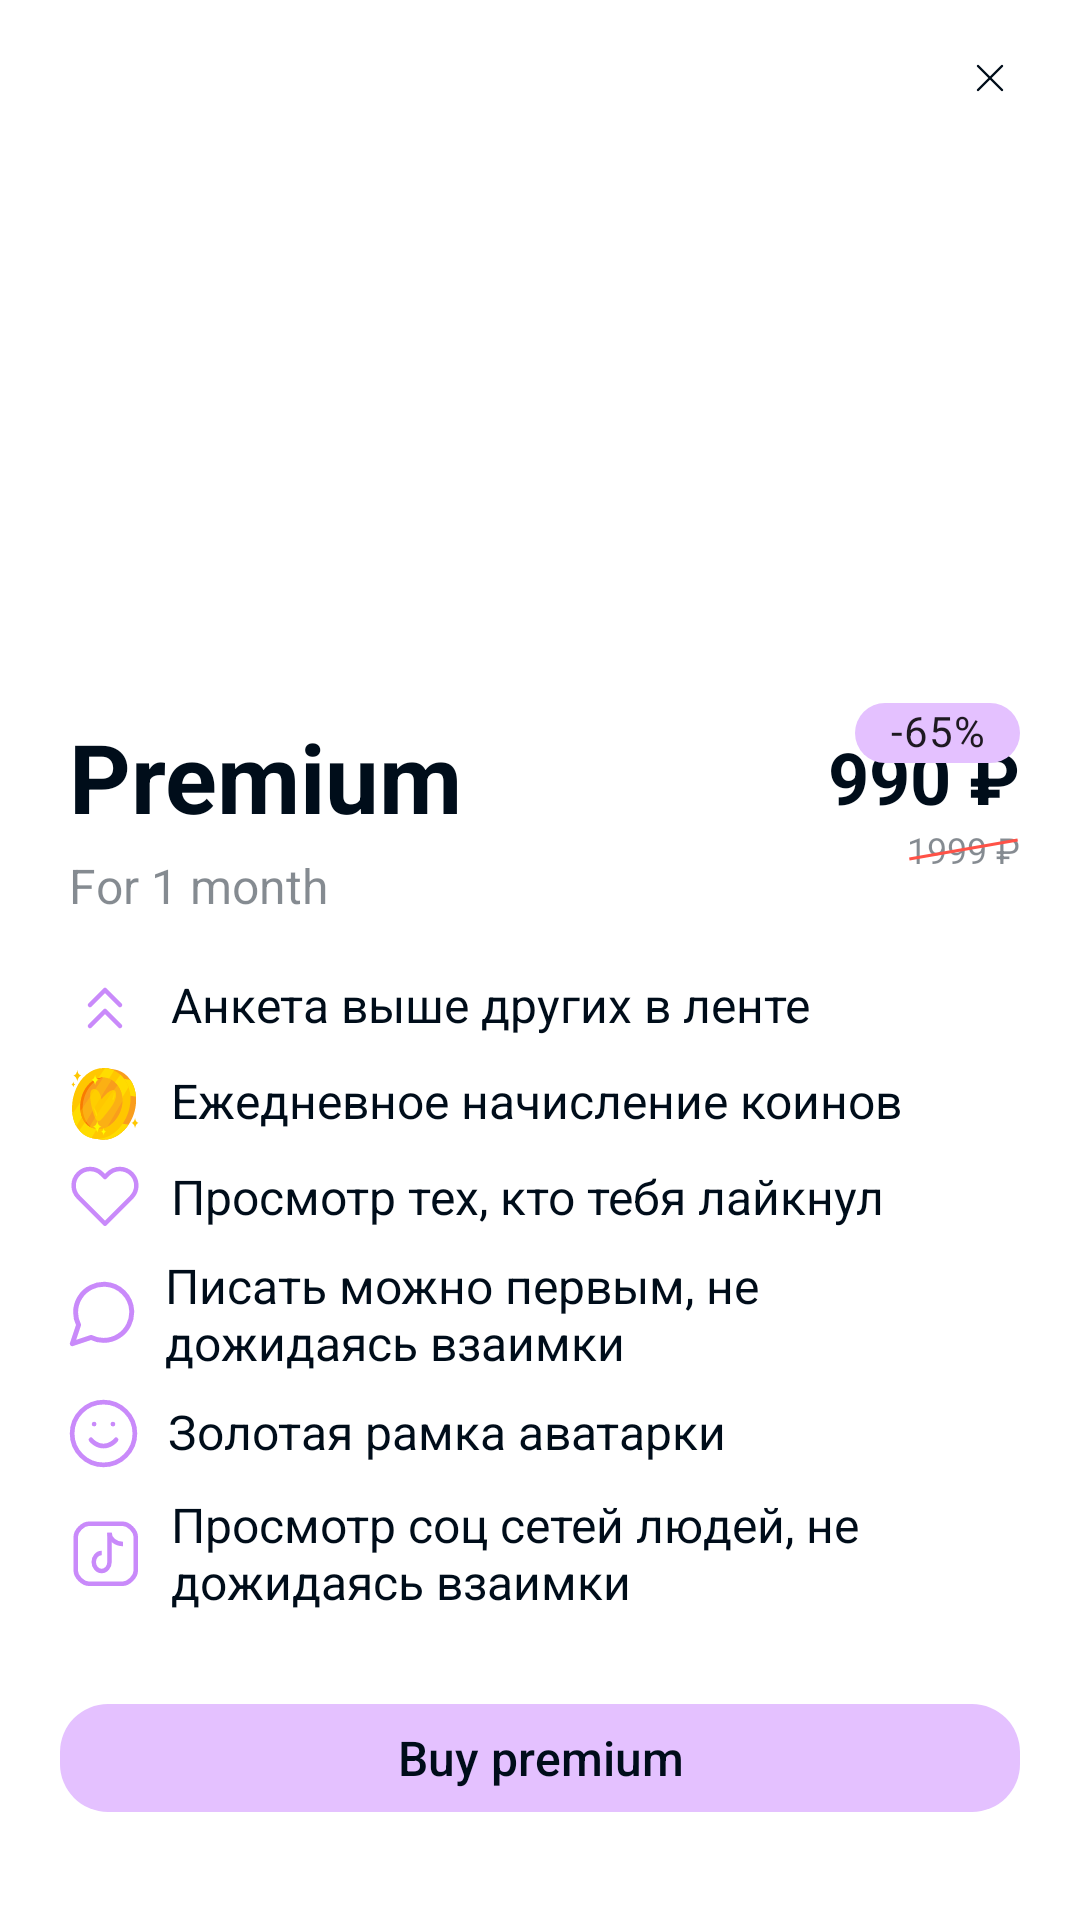

Named icons in this screenshot (1080*1920) and their bounding boxes, (x1, y1, x2, y2):
close: (977, 65, 1003, 91)
